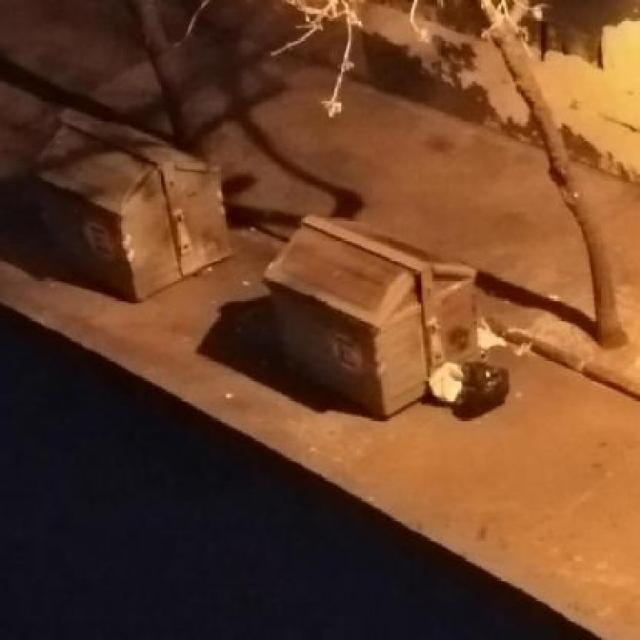garbage: (423, 339, 524, 415)
